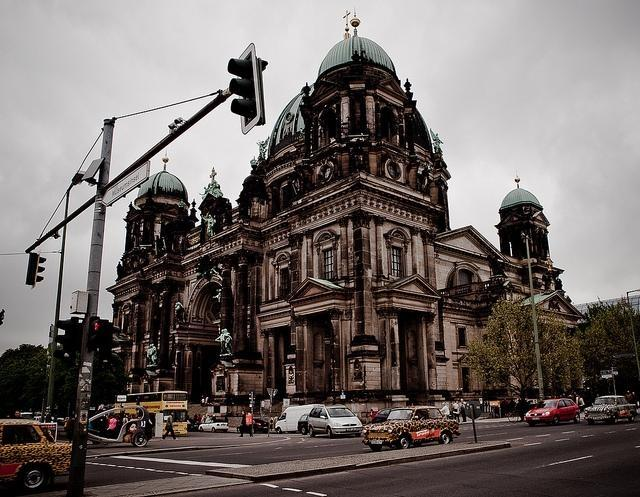bus: (114, 390, 188, 436)
car: (2, 420, 72, 494), (362, 406, 460, 452), (308, 404, 364, 439), (584, 396, 638, 426), (523, 398, 581, 425), (276, 404, 326, 435), (198, 414, 230, 432), (237, 418, 270, 434), (372, 408, 398, 424), (298, 414, 310, 435)
